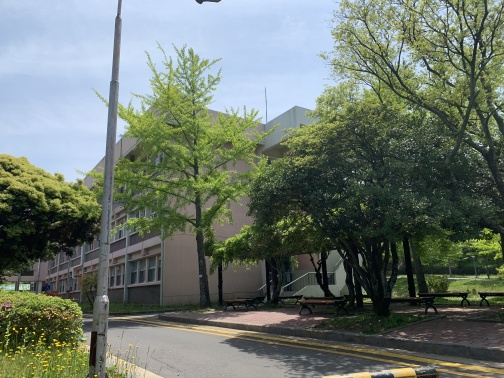College Of Education: (22, 105, 380, 312)
